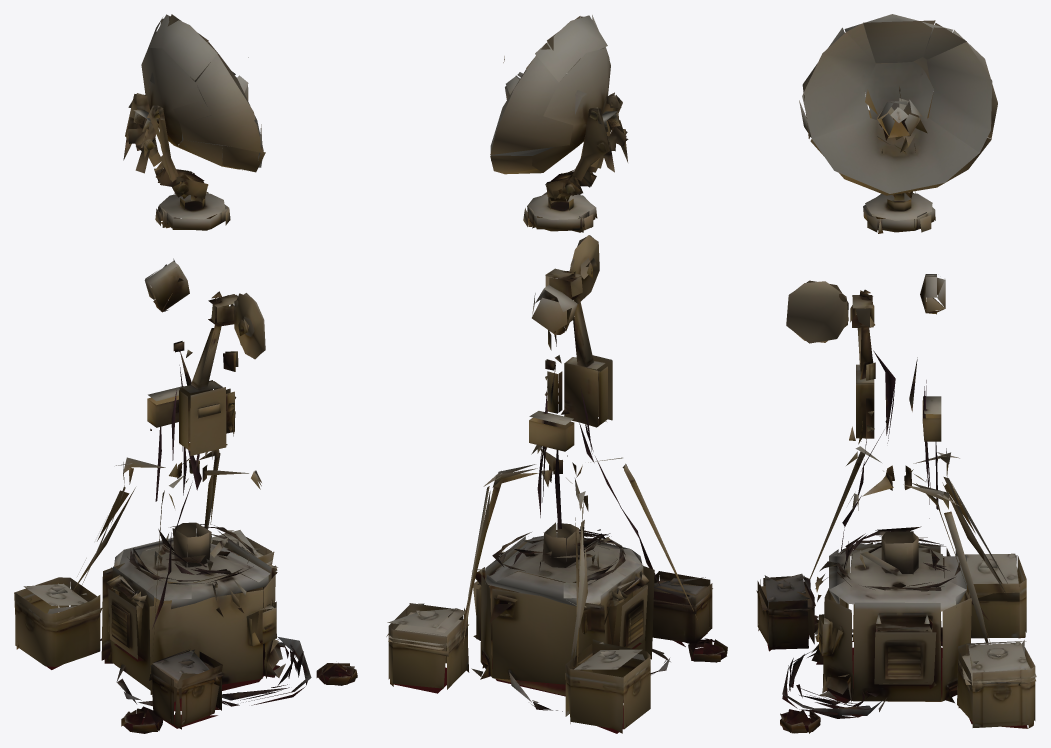
File: ch5_meridian_comms_mast_LOD3.glb
3 renders of one model, left to right at view 1: azimuth 30°, elevation 25°; view 2: azimuth 150°, elevation 25°; view 3: azimuth 270°, elevation 25°, orthographic. The views are drawn at different scales.
Visible parts, largest first — view 1: tripo_node_35f3261e-9936-461f-8cbf-431a47ee86c6; view 2: tripo_node_35f3261e-9936-461f-8cbf-431a47ee86c6; view 3: tripo_node_35f3261e-9936-461f-8cbf-431a47ee86c6.
Part boxes in pixels (x1,y1,x2,y2): tripo_node_35f3261e-9936-461f-8cbf-431a47ee86c6: (14, 14, 357, 733); tripo_node_35f3261e-9936-461f-8cbf-431a47ee86c6: (386, 15, 727, 733); tripo_node_35f3261e-9936-461f-8cbf-431a47ee86c6: (756, 14, 1036, 733).
Bounding box in the file's own units: 0.3884 × 1 × 0.3848.
Materials: 1 (1 with a texture image).
